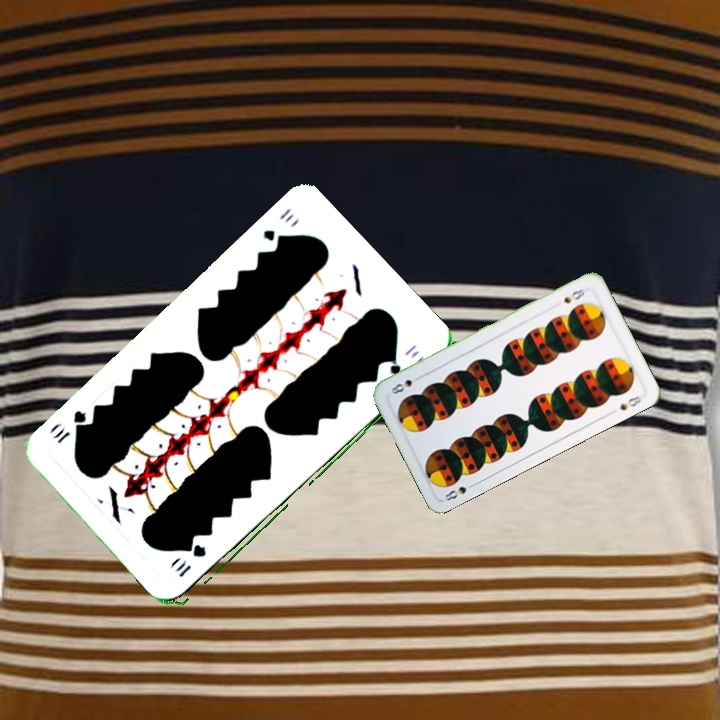G10: (258, 204, 297, 250), (172, 542, 209, 580)
S8: (440, 479, 479, 504), (560, 285, 589, 306)
